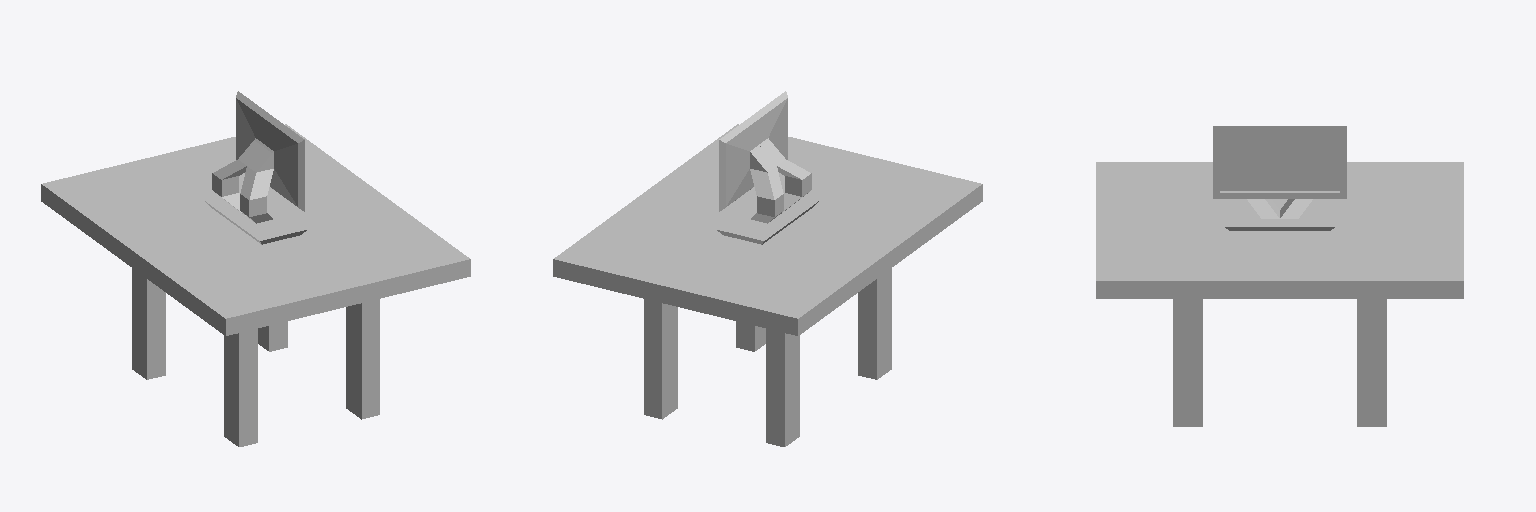
File: screen.obj
3 views of the same model, side by side, from view 1: azimuth 30°, elevation 25°; view 2: azimuth 150°, elevation 25°; view 3: azimuth 270°, elevation 25° (orthographic).
Parts seen in each view (by area): view 1: Cube; view 2: Cube; view 3: Cube.
Part boxes in pixels (left/top/right/bottom): Cube: left=41, top=91, right=470, bottom=446; Cube: left=553, top=91, right=982, bottom=446; Cube: left=1096, top=126, right=1463, bottom=426.
Size of the model in its own units: 15.12 by 16.16 by 19.71.